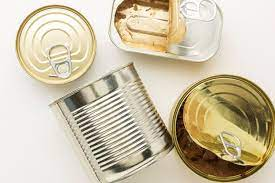metal: (47, 62, 175, 183), (169, 73, 275, 183), (107, 1, 228, 64), (11, 1, 98, 88)
